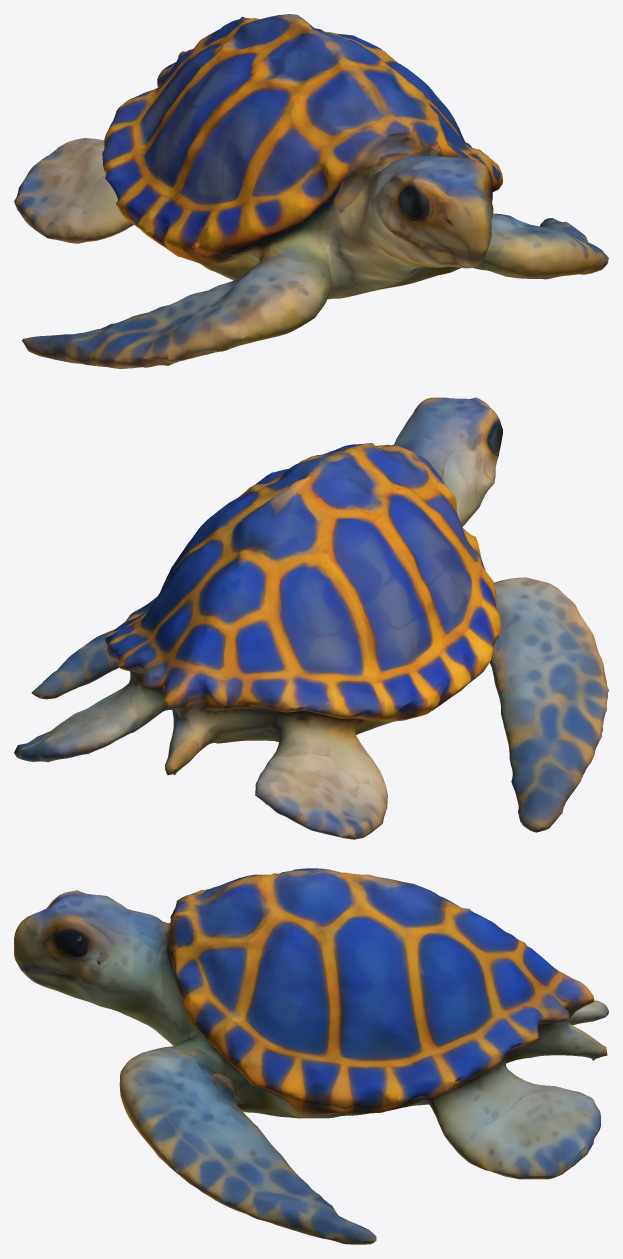
The picture shows the model from 3 angles, top to bottom: view 1: azimuth 30°, elevation 25°; view 2: azimuth 150°, elevation 25°; view 3: azimuth 270°, elevation 25°; orthographic projection. The views are drawn at different scales.
Size of the model in its own units: 1.13 by 0.5808 by 1.2.
Materials: 1 (1 with a texture image).
